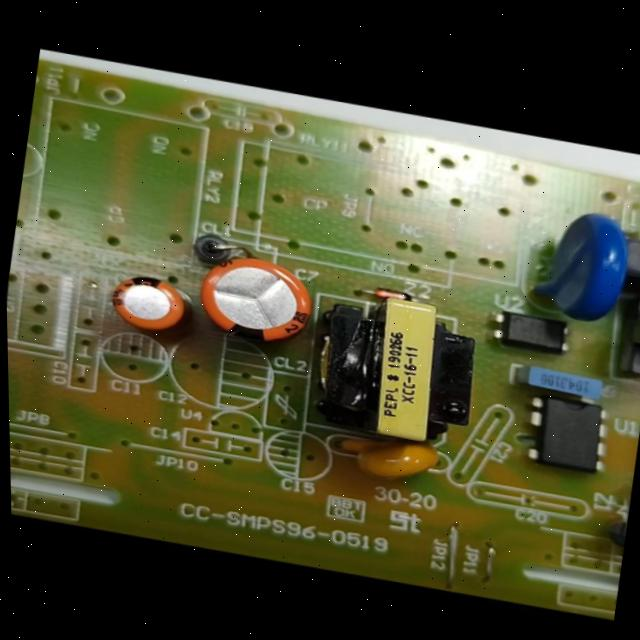Cap1: (184, 244, 331, 358)
Cap2: (96, 263, 200, 345)
MOSFET: (510, 383, 622, 485)
Mov: (510, 192, 640, 338)
Transformer: (285, 273, 497, 462), (599, 280, 640, 389)
